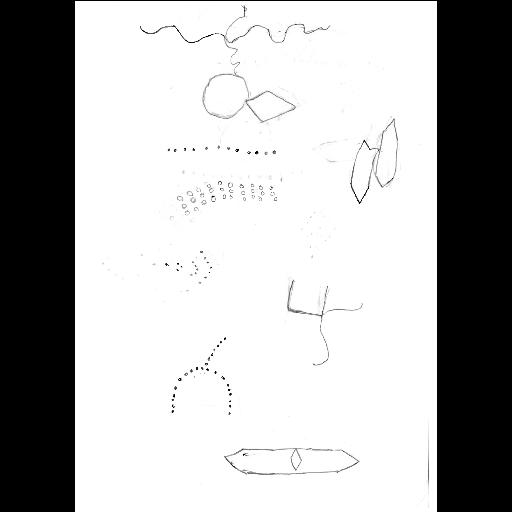shape-1: (202, 72, 296, 124)
shape-2: (166, 142, 280, 158)
shape-3: (175, 180, 279, 216)
shape-4: (166, 248, 214, 286)
shape-5: (286, 279, 364, 367)
shape-6: (170, 336, 232, 416)
shape-7: (139, 2, 331, 70)
shape-8: (350, 118, 400, 206)
shape-9: (223, 445, 363, 479)
